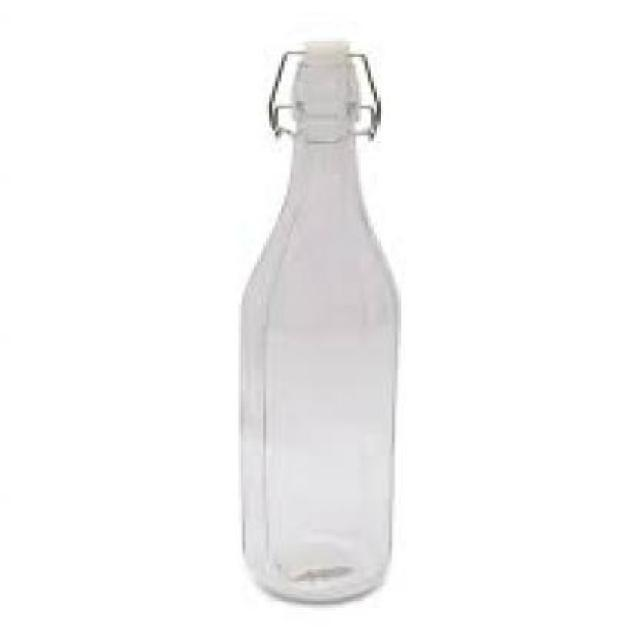kaca: (237, 49, 389, 597)
